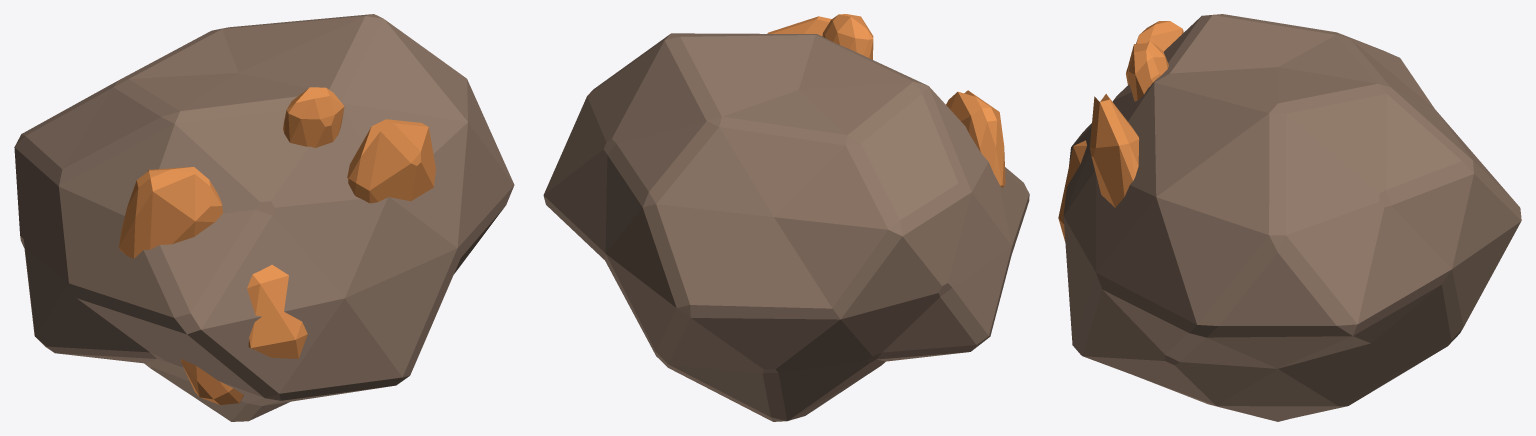
File: copper_tier3.glb
3 views of the same model, side by side, from view 1: azimuth 30°, elevation 25°; view 2: azimuth 150°, elevation 25°; view 3: azimuth 270°, elevation 25° (orthographic). The views are drawn at different scales.
Visible parts, largest first — view 1: copper_body, copper_deposit_01, copper_deposit_03, copper_deposit_02, copper_deposit_05, copper_deposit_06; view 2: copper_body, copper_deposit_01, copper_deposit_05, copper_deposit_03; view 3: copper_body, copper_deposit_03, copper_deposit_05, copper_deposit_01, copper_deposit_02.
Part boxes in pixels (x1,y1,x2,y2): copper_body: (14,14,514,421); copper_deposit_01: (119,167,222,258); copper_deposit_03: (347,119,435,203); copper_deposit_02: (247,264,307,358); copper_deposit_05: (283,87,344,147); copper_deposit_06: (180,359,243,404); copper_body: (543,33,1029,421); copper_deposit_01: (946,90,1005,187); copper_deposit_05: (822,14,873,59); copper_deposit_03: (767,16,831,35); copper_body: (1063,14,1521,421); copper_deposit_03: (1089,94,1139,207); copper_deposit_05: (1127,41,1168,101); copper_deposit_01: (1126,21,1183,84); copper_deposit_02: (1058,140,1086,241).
Size of the model in its own units: 1.98 by 1.61 by 1.77.
